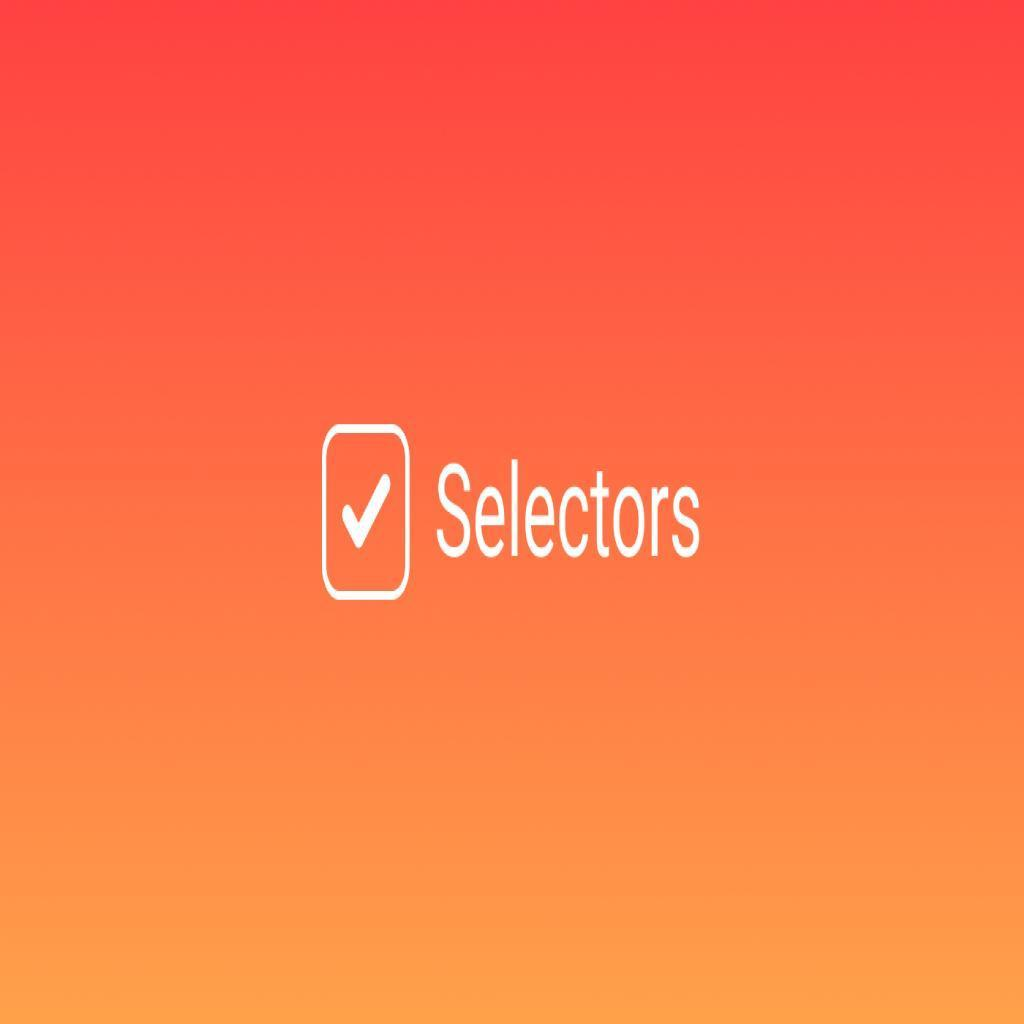checkbox: (321, 428, 410, 598)
label: (436, 460, 712, 567)
